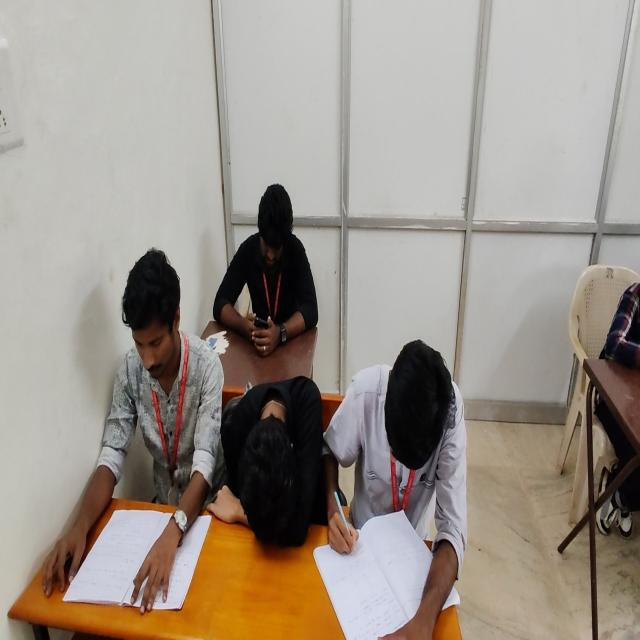reading: (42, 248, 228, 616), (323, 339, 465, 637)
sleeping: (218, 371, 326, 548)
using_mobile: (212, 183, 320, 354)
